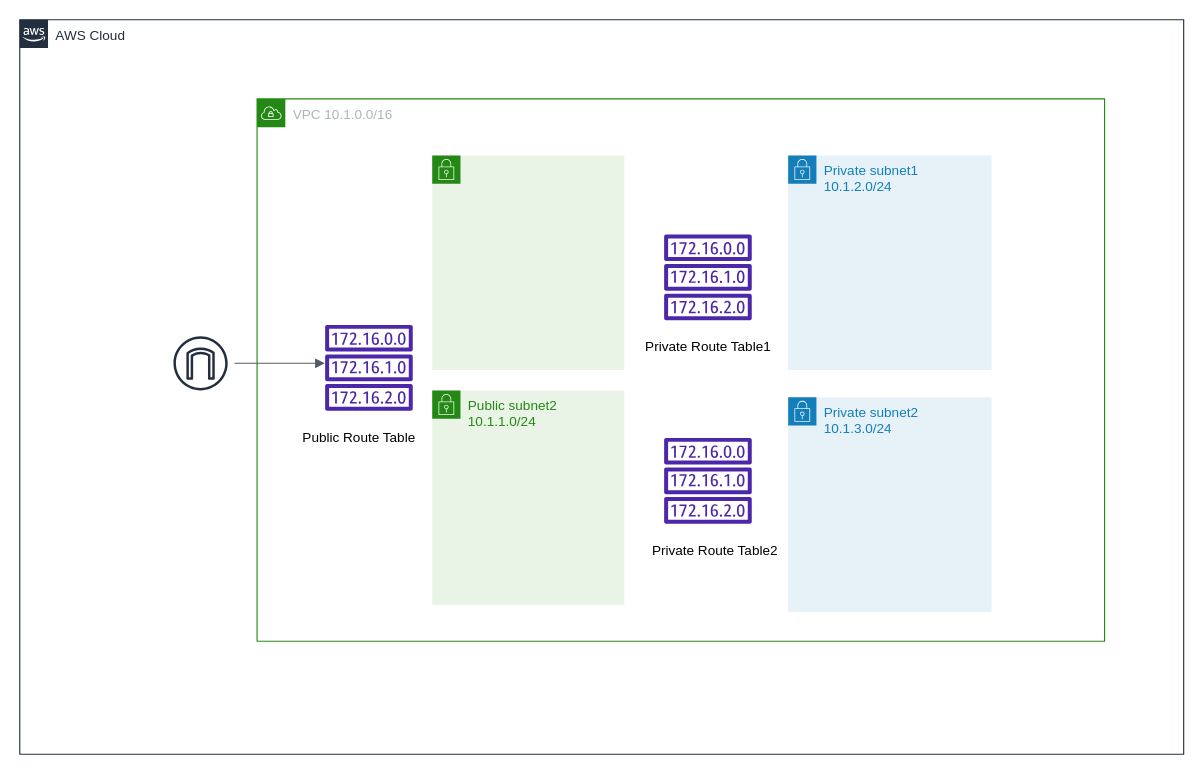
This 1203x774 diagram has some shape labels left out. The centre of each missing label's shape, as x and y in pixels:
Internet gateway: point 200,362
Public subnet1 10.1.0.0/24: point 527,262
